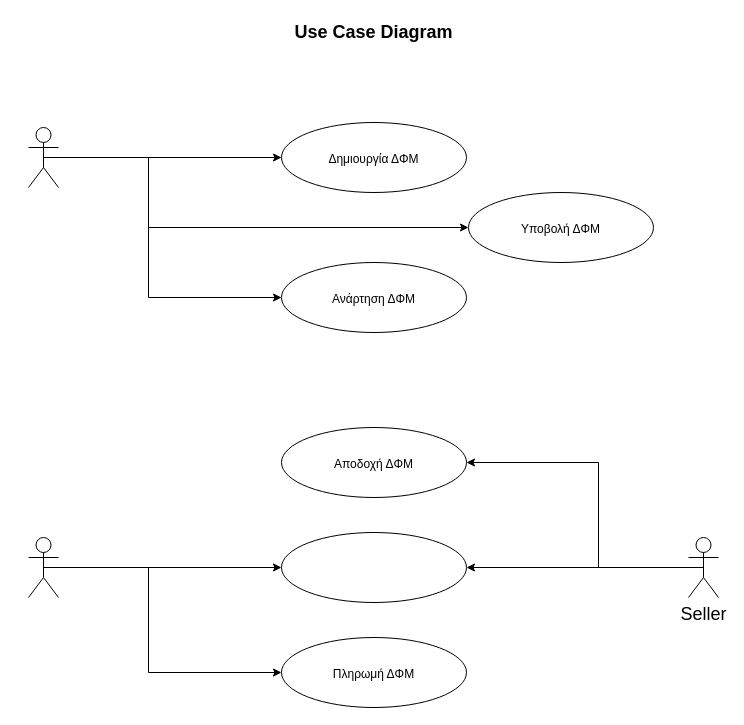
The diagram is 744 pixels wide and 725 high, and some of its shapes have lost their labels. Here are the shapes that lost their labels. From the top down, the centre of each, then its label:
At [43,157]: "Notary".
At [43,567]: "Buyer".
At [373,567]: "Υπογραφή ΔΦΜ".
